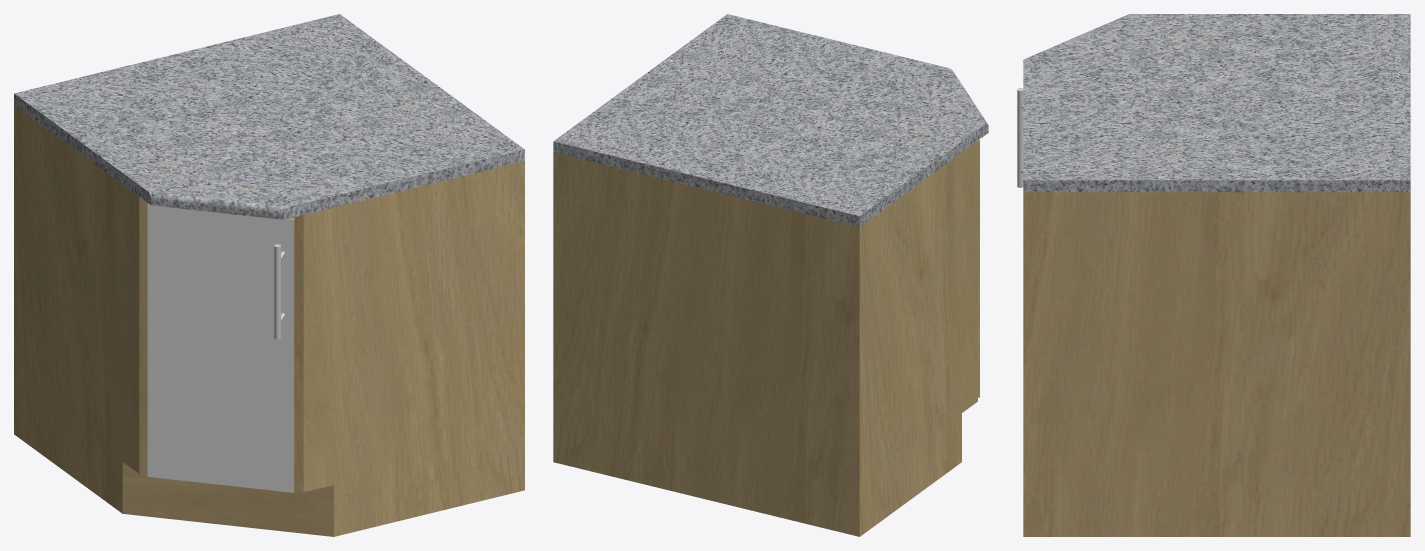
Rendered from sh-bs0-lower-corner-cabinet.glb.
3 renders of one model, left to right at view 1: azimuth 30°, elevation 25°; view 2: azimuth 150°, elevation 25°; view 3: azimuth 270°, elevation 25°, orthographic. The views are drawn at different scales.
Parts seen in each view (by area): view 1: Cube.001; view 2: Cube.001; view 3: Cube.001.
Part boxes in pixels (left/top/right/bottom): Cube.001: left=14, top=14, right=524, bottom=536; Cube.001: left=553, top=14, right=988, bottom=536; Cube.001: left=1017, top=14, right=1410, bottom=536.
Bounding box in the file's own units: 1 × 1 × 1.
Materials: 4 (2 with a texture image).
